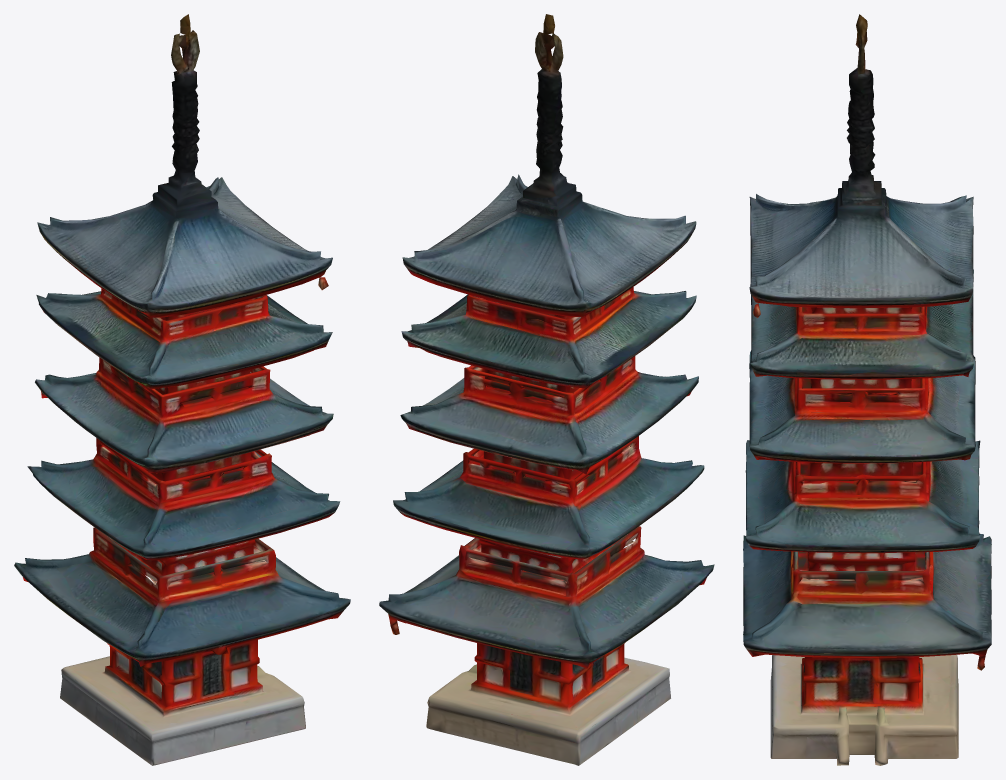
The model's file is pagoda.glb.
The picture shows the model from 3 angles, left to right: view 1: azimuth 30°, elevation 25°; view 2: azimuth 150°, elevation 25°; view 3: azimuth 270°, elevation 25°; orthographic projection.
Visible parts, largest first — view 1: tripo_node_1297fd96-43dd-469d-8ea2-a09cc4b5daed; view 2: tripo_node_1297fd96-43dd-469d-8ea2-a09cc4b5daed; view 3: tripo_node_1297fd96-43dd-469d-8ea2-a09cc4b5daed.
Boxes of the visible parts, x1,y1,x2,y2 form: tripo_node_1297fd96-43dd-469d-8ea2-a09cc4b5daed: (14,14,350,765); tripo_node_1297fd96-43dd-469d-8ea2-a09cc4b5daed: (379,14,714,765); tripo_node_1297fd96-43dd-469d-8ea2-a09cc4b5daed: (743,14,991,765).
Size of the model in its own units: 0.321 by 1 by 0.3187.
1 material, 1 textured.
